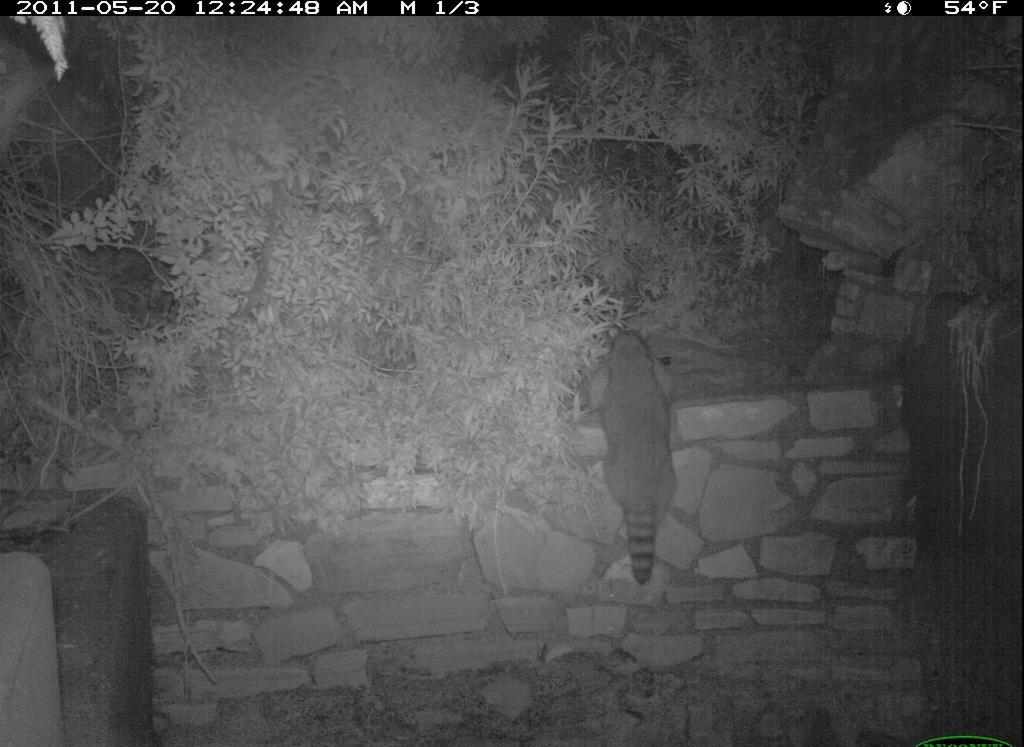raccoon: (593, 326, 684, 594)
